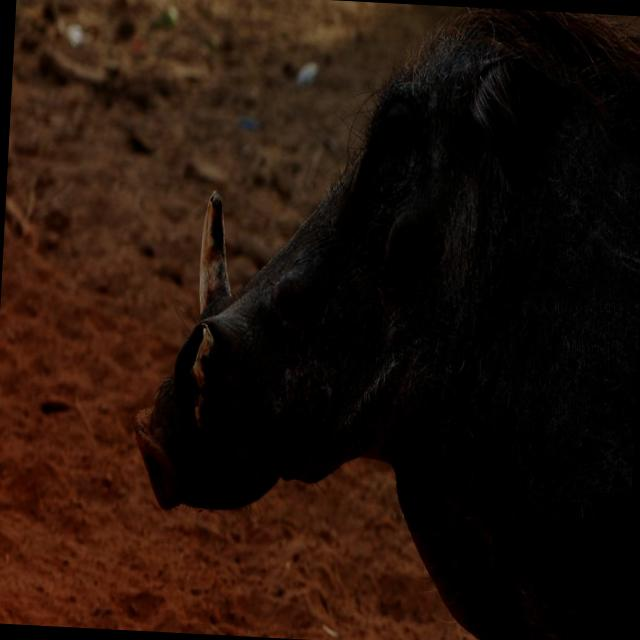pig: (134, 10, 640, 640)
